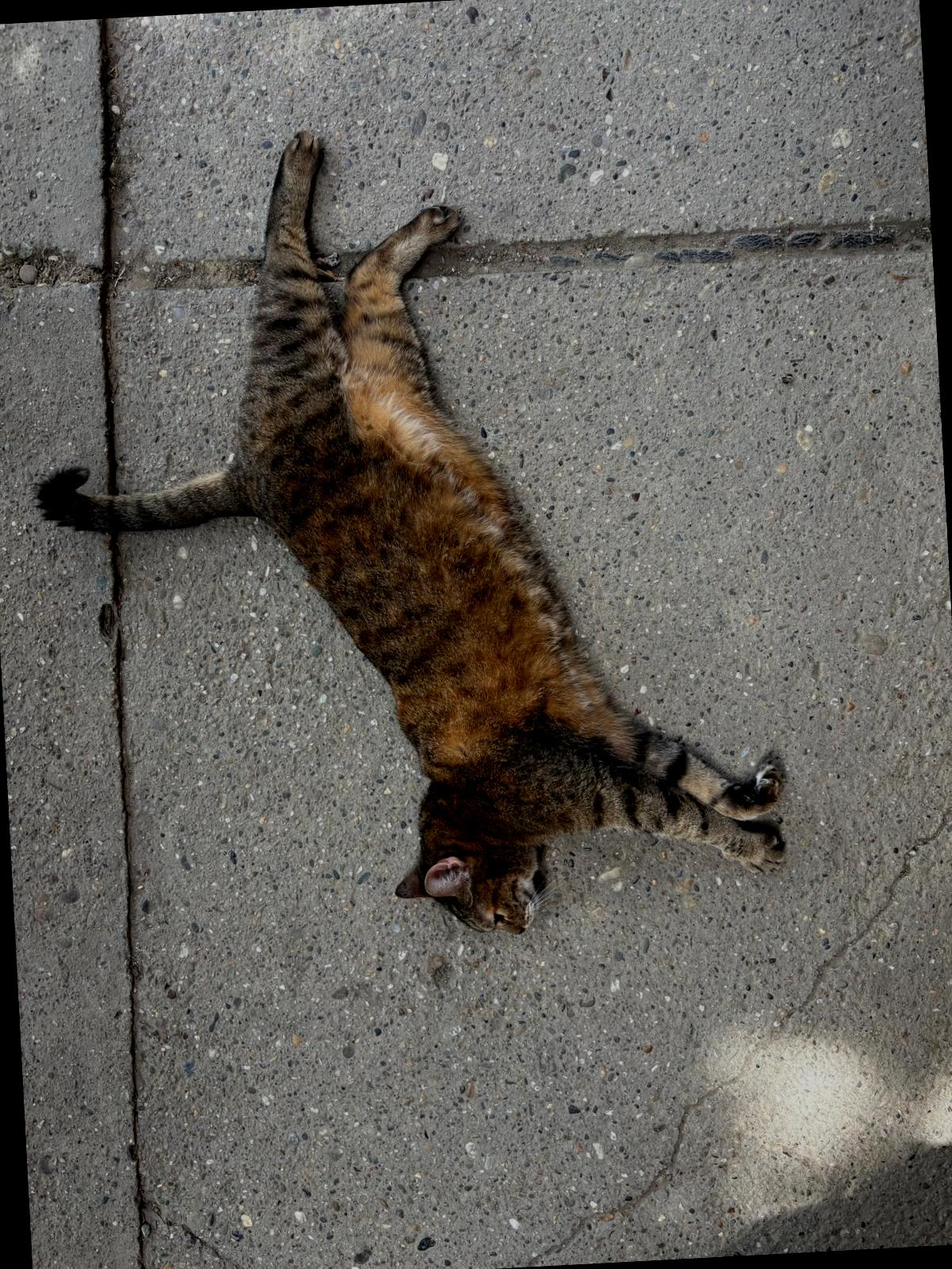macka: (17, 117, 789, 963)
